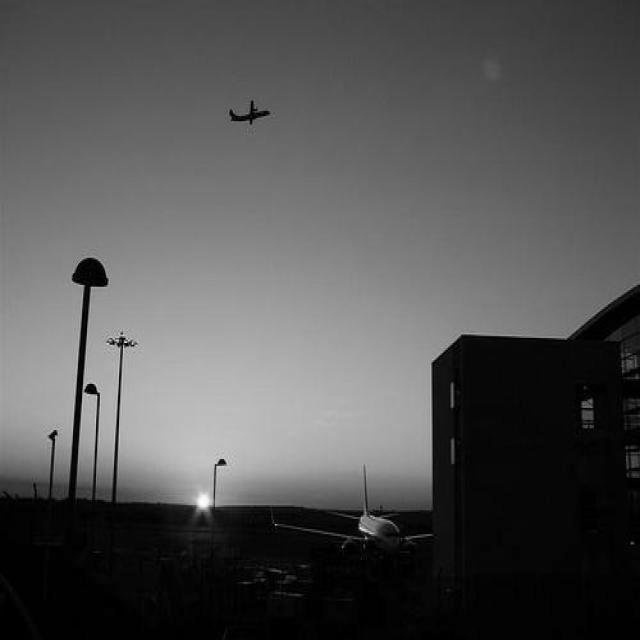aeroplane: (272, 464, 434, 550), (228, 99, 268, 125)
